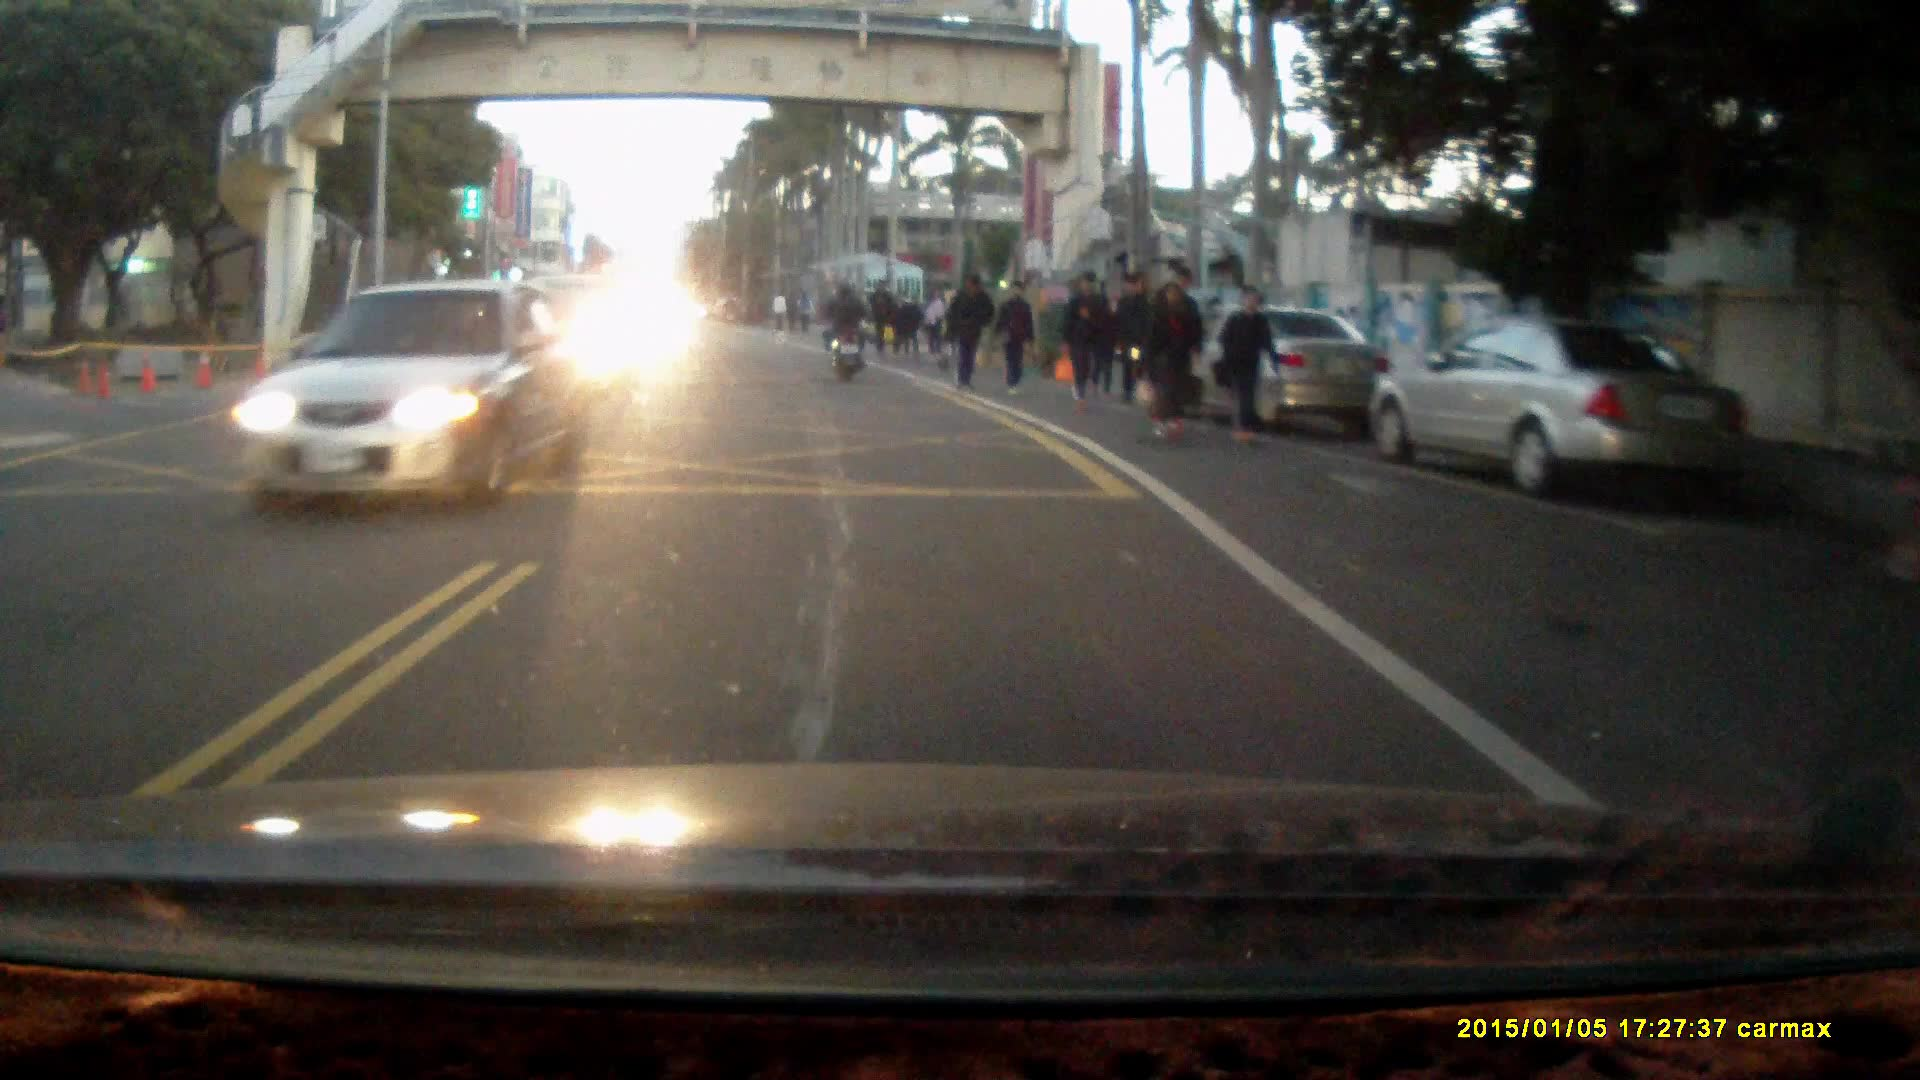pedestrian: (1215, 288, 1281, 446), (1142, 282, 1197, 437), (1059, 267, 1106, 408), (944, 270, 995, 391), (993, 278, 1038, 397), (1113, 277, 1153, 408)
rider: (821, 278, 871, 383)
vehicle: (229, 283, 597, 517), (1370, 314, 1756, 500), (1148, 311, 1398, 431)
